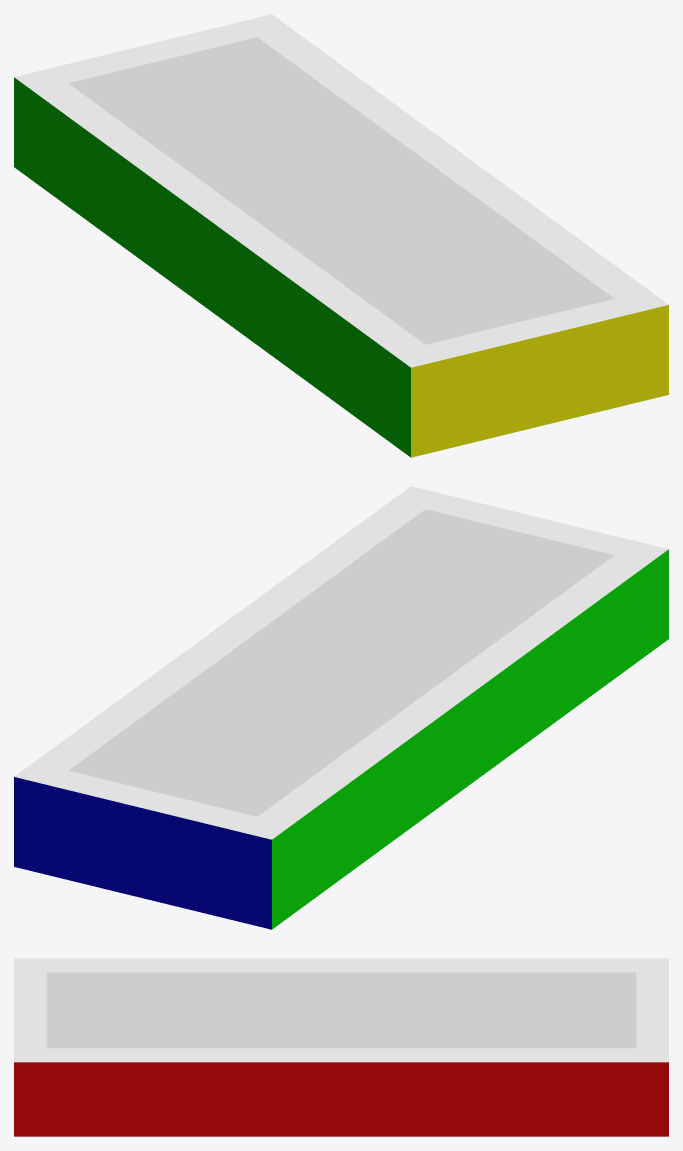
3 views of the same model, one above another, from view 1: azimuth 30°, elevation 25°; view 2: azimuth 150°, elevation 25°; view 3: azimuth 270°, elevation 25° (orthographic). The views are drawn at different scales.
Parts seen in each view (by area): view 1: Box_65; view 2: Box_65; view 3: Box_65.
Boxes of the visible parts, box(x1,y1,x2,y2) form: Box_65: box(14, 14, 668, 457); Box_65: box(14, 486, 668, 929); Box_65: box(14, 958, 668, 1136).
Bounding box in the file's own units: 7 × 2.33 × 18.67.
